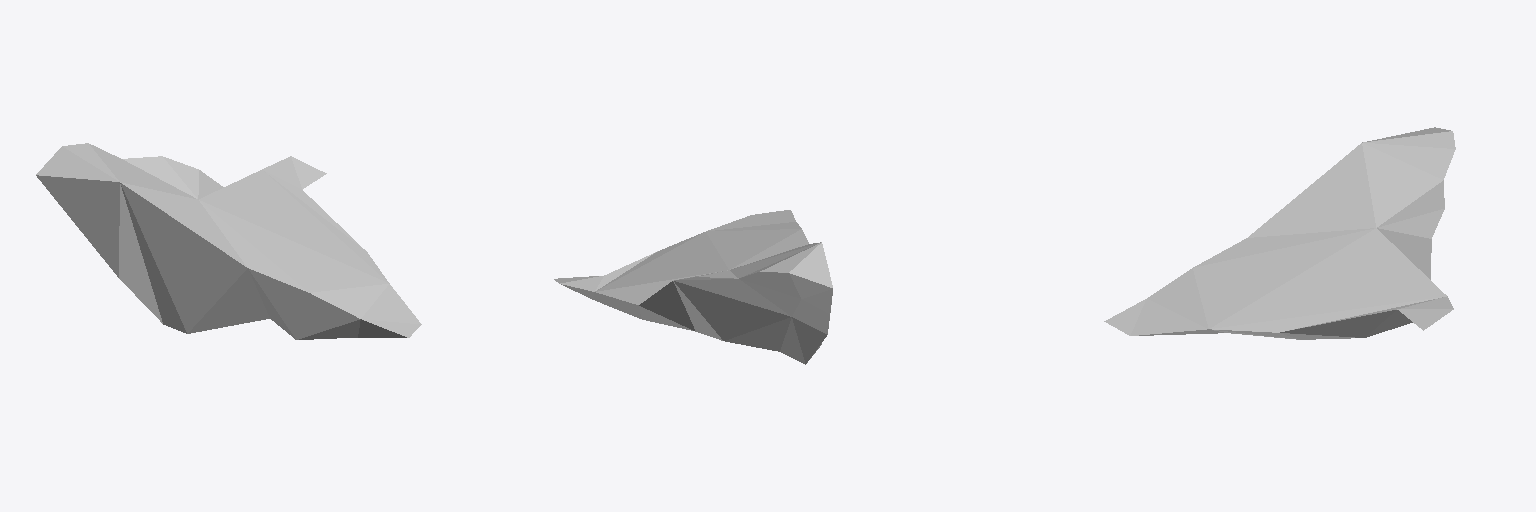
File: ShatterPar02.obj
3 views of the same model, side by side, from view 1: azimuth 30°, elevation 25°; view 2: azimuth 150°, elevation 25°; view 3: azimuth 270°, elevation 25° (orthographic).
Parts seen in each view (by area): view 1: ShatterPar02; view 2: ShatterPar02; view 3: ShatterPar02.
Part boxes in pixels (left/top/right/bottom): ShatterPar02: left=36, top=143, right=421, bottom=339; ShatterPar02: left=554, top=210, right=832, bottom=364; ShatterPar02: left=1104, top=127, right=1455, bottom=339.
Size of the model in its own units: 0.5419 by 0.2632 by 0.5772.